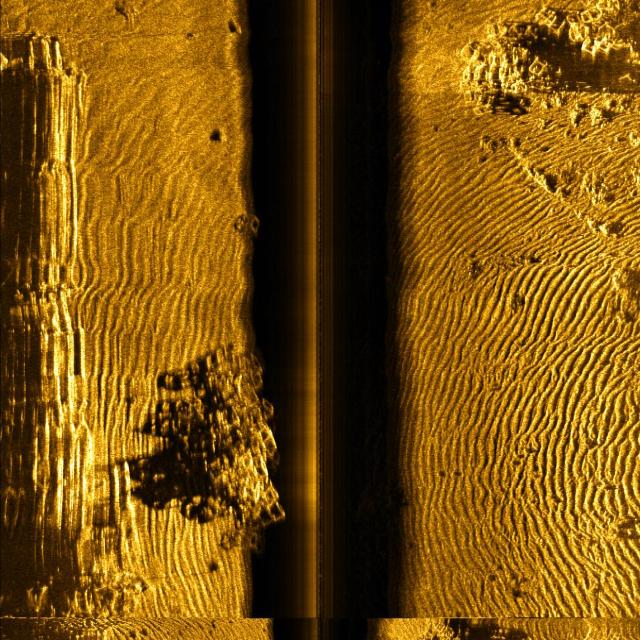artificial reef: (158, 344, 292, 557), (469, 6, 632, 155), (234, 197, 284, 266)
